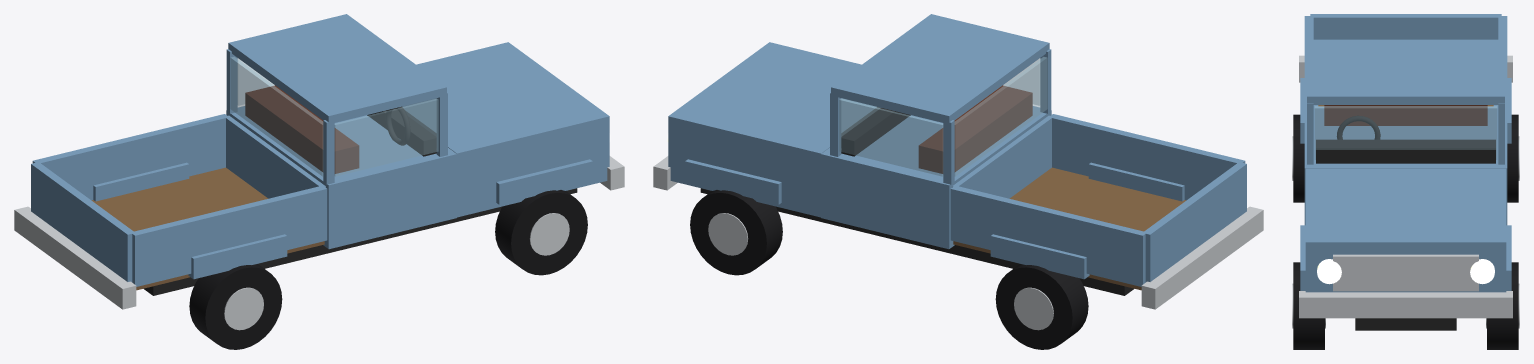
File: pickup-clasica.glb
The picture shows the model from 3 angles, left to right: view 1: azimuth 30°, elevation 25°; view 2: azimuth 150°, elevation 25°; view 3: azimuth 270°, elevation 25°; orthographic projection.
Parts seen in each view (by area): view 1: cofre, caja-costado (×2), techo, cabina-baja, llanta (×2), ventana (×2), salpicadera (×3), caja-piso, compuerta, medallon, asiento, caja-frente (+8 smaller); view 2: cofre, caja-costado (×2), techo, cabina-baja, llanta (×2), ventana (×2), salpicadera (×3), caja-piso, compuerta, medallon, asiento, caja-frente (+7 smaller); view 3: cofre, techo, parabrisas, defensa-del, parrilla, compuerta, cabina-baja, llanta (×4), tablero, asiento, salpicadera (×4), bastidor (+5 smaller).
Part boxes in pixels (x1,y1,x2,y2): cofre: (402, 42, 609, 217); caja-costado (×2): (32, 114, 327, 286); techo: (228, 14, 446, 124); cabina-baja: (226, 106, 456, 249); llanta (×2): (189, 190, 587, 349); ventana (×2): (237, 58, 438, 176); salpicadera (×3): (93, 159, 592, 279); caja-piso: (91, 167, 324, 290); compuerta: (31, 163, 134, 282); medallon: (230, 57, 323, 176); asiento: (245, 85, 359, 173); caja-frente: (225, 115, 325, 198); cofre: (668, 42, 876, 217); caja-costado (×2): (950, 114, 1245, 286); techo: (831, 14, 1049, 124); cabina-baja: (821, 106, 1051, 249); llanta (×2): (690, 190, 1088, 349); ventana (×2): (839, 58, 1040, 176); salpicadera (×3): (685, 159, 1184, 279); caja-piso: (953, 167, 1186, 290); compuerta: (1143, 163, 1246, 282); medallon: (954, 57, 1047, 176); asiento: (918, 85, 1032, 173); caja-frente: (952, 115, 1052, 198); cofre: (1305, 168, 1506, 292); techo: (1307, 39, 1504, 104); parabrisas: (1314, 106, 1497, 159); defensa-del: (1299, 291, 1512, 318); parrilla: (1333, 254, 1478, 291); compuerta: (1310, 14, 1501, 39); cabina-baja: (1304, 106, 1507, 225); llanta (×4): (1293, 114, 1518, 349); tablero: (1316, 139, 1495, 163); asiento: (1324, 105, 1487, 125); salpicadera (×4): (1300, 78, 1511, 290); bastidor: (1355, 318, 1456, 330).
Bounding box in the file's own units: 5.09 × 1.99 × 2.02.
